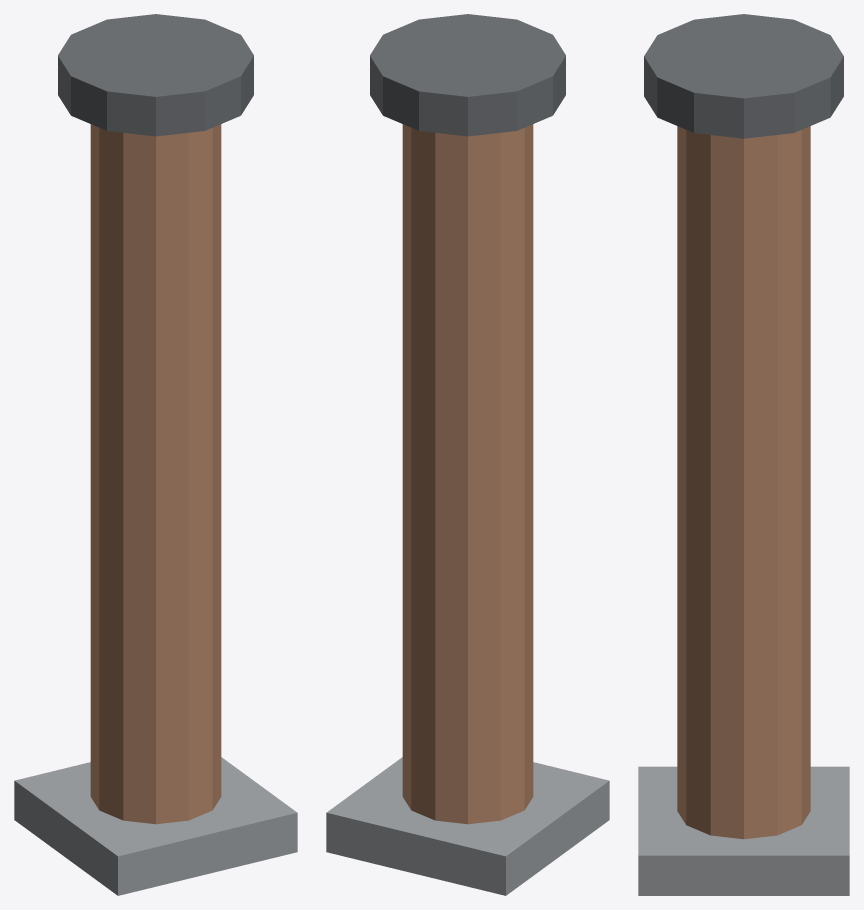
File: exhaust_stack_01.glb
3 renders of one model, left to right at view 1: azimuth 30°, elevation 25°; view 2: azimuth 150°, elevation 25°; view 3: azimuth 270°, elevation 25°, orthographic.
Parts seen in each view (by area): view 1: stack, base, cap; view 2: stack, base, cap; view 3: stack, cap, base.
Boxes of the visible parts, x1=… form: stack: x1=90, y1=124, x2=221, y2=824; base: x1=14, y1=757, x2=297, y2=895; cap: x1=58, y1=14, x2=253, y2=136; stack: x1=402, y1=124, x2=533, y2=824; base: x1=326, y1=757, x2=609, y2=895; cap: x1=370, y1=14, x2=565, y2=136; stack: x1=677, y1=126, x2=810, y2=839; cap: x1=644, y1=14, x2=843, y2=138; base: x1=638, y1=766, x2=849, y2=895.
Size of the model in its own units: 0.38 by 1.58 by 0.38.
